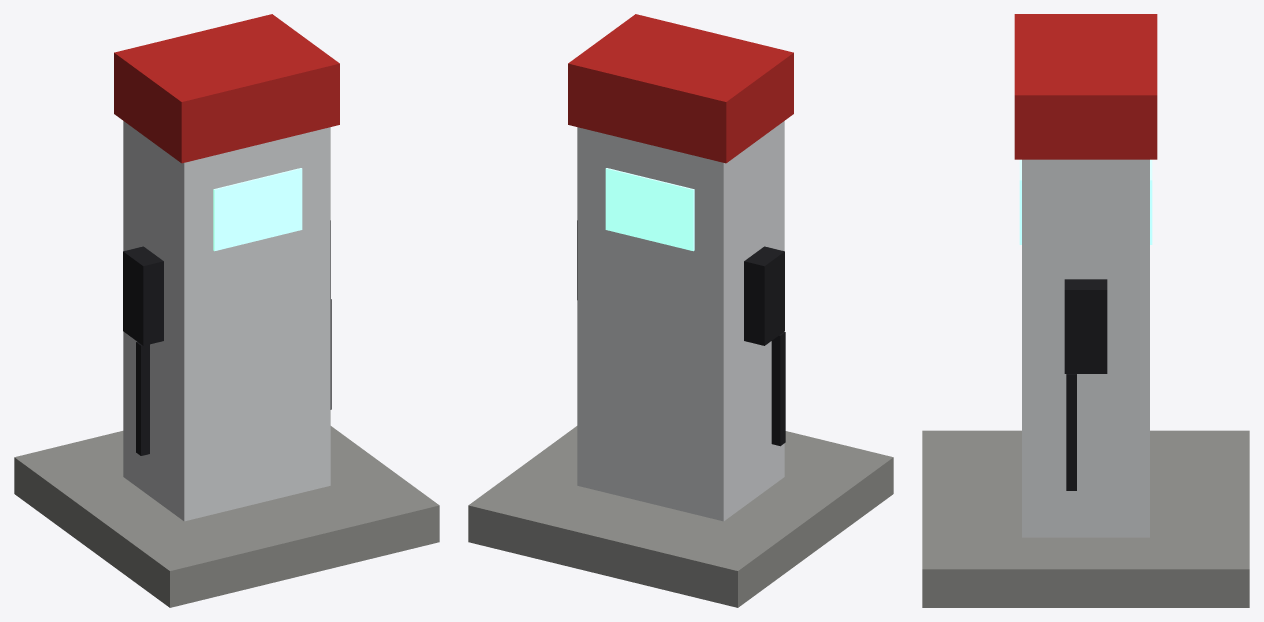
Rendered from pos-bomba.gltf.
The picture shows the model from 3 angles, left to right: view 1: azimuth 30°, elevation 25°; view 2: azimuth 150°, elevation 25°; view 3: azimuth 270°, elevation 25°; orthographic projection. The views are drawn at different scales.
Visible parts, largest first — view 1: pos-bomba; view 2: pos-bomba; view 3: pos-bomba.
Boxes of the visible parts, x1,y1,x2,y2 form: pos-bomba: [14, 14, 439, 607]; pos-bomba: [468, 14, 893, 607]; pos-bomba: [922, 14, 1249, 607].
Size of the model in its own units: 0.92 by 1.5 by 0.92.
